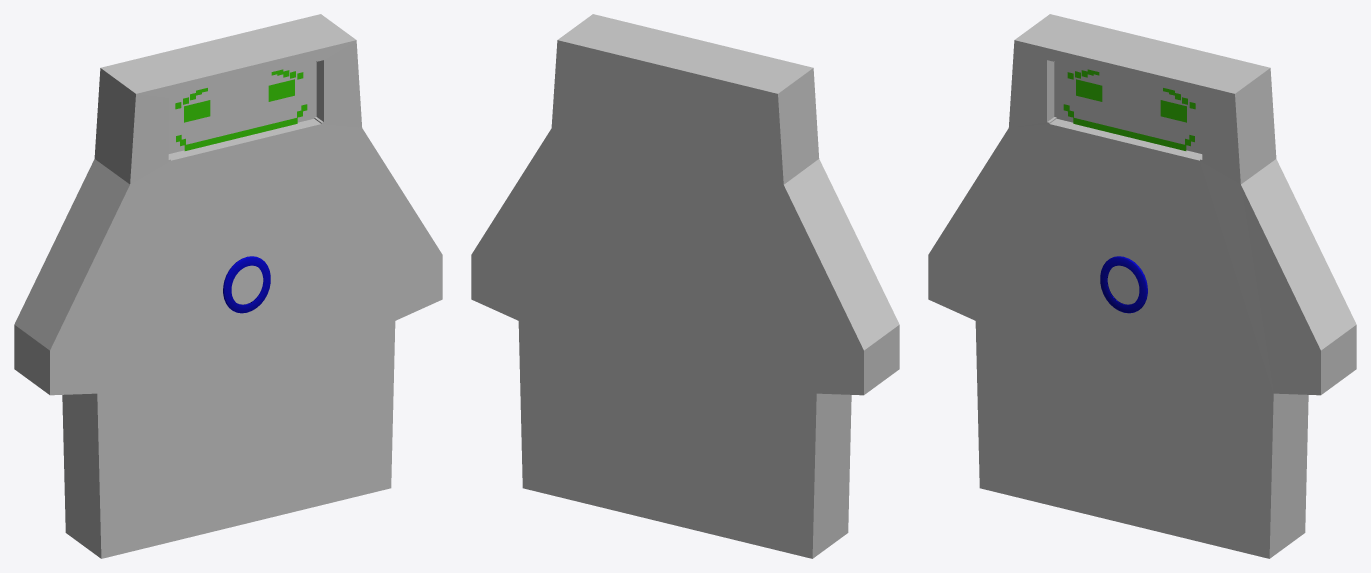
File: Robo_combined.obj
3 views of the same model, side by side, from view 1: azimuth 30°, elevation 25°; view 2: azimuth 150°, elevation 25°; view 3: azimuth 330°, elevation 25° (orthographic).
Visible parts, largest first — view 1: Body, Face, Heart; view 2: Body; view 3: Body, Face, Heart.
Part boxes in pixels (bbox=[...]): Body: bbox=[14, 14, 442, 558]; Face: bbox=[175, 69, 307, 150]; Heart: bbox=[223, 256, 270, 313]; Body: bbox=[471, 14, 899, 558]; Body: bbox=[928, 14, 1356, 558]; Face: bbox=[1063, 69, 1195, 150]; Heart: bbox=[1100, 256, 1147, 313].
Size of the model in its own units: 4.46 by 4.96 by 0.7445.
